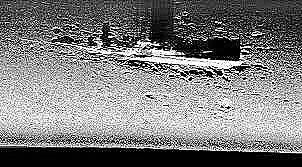ship: (51, 40, 244, 76)
